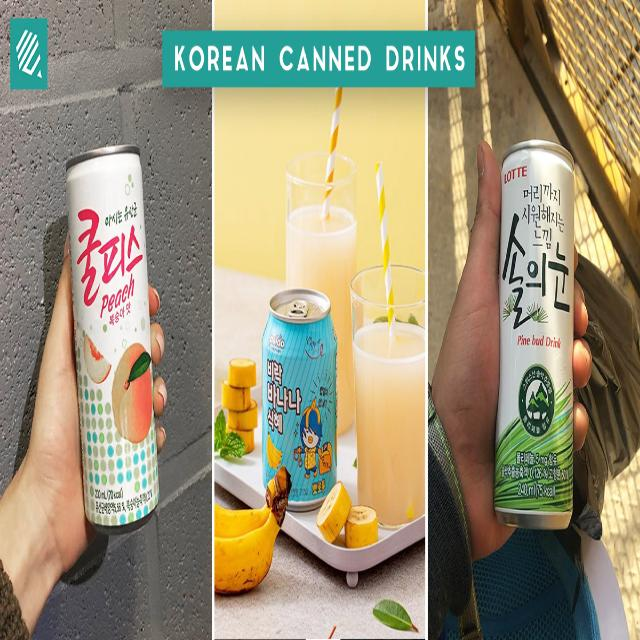Cans: (60, 136, 160, 534), (491, 137, 580, 534), (258, 283, 340, 516)
